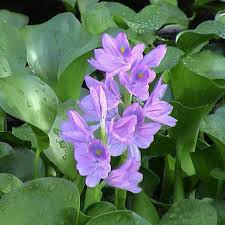water_hyacinth: (0, 1, 224, 225)
